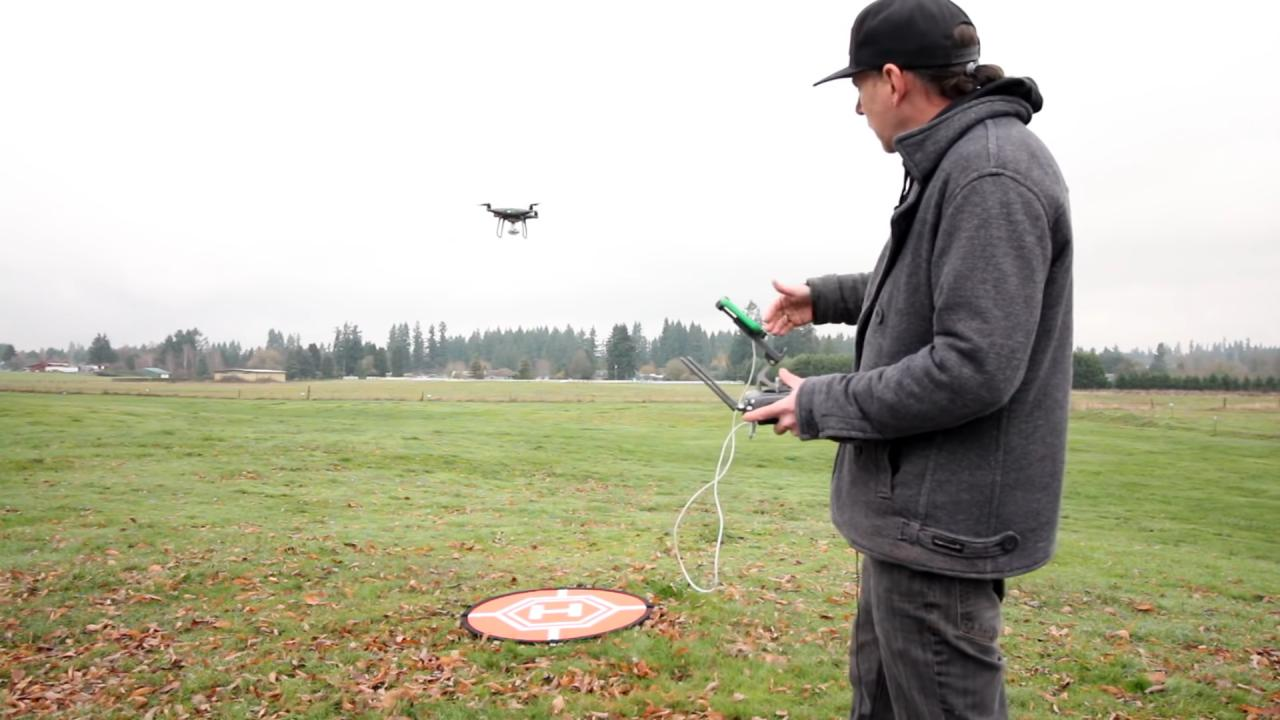Drone: (471, 191, 549, 248)
